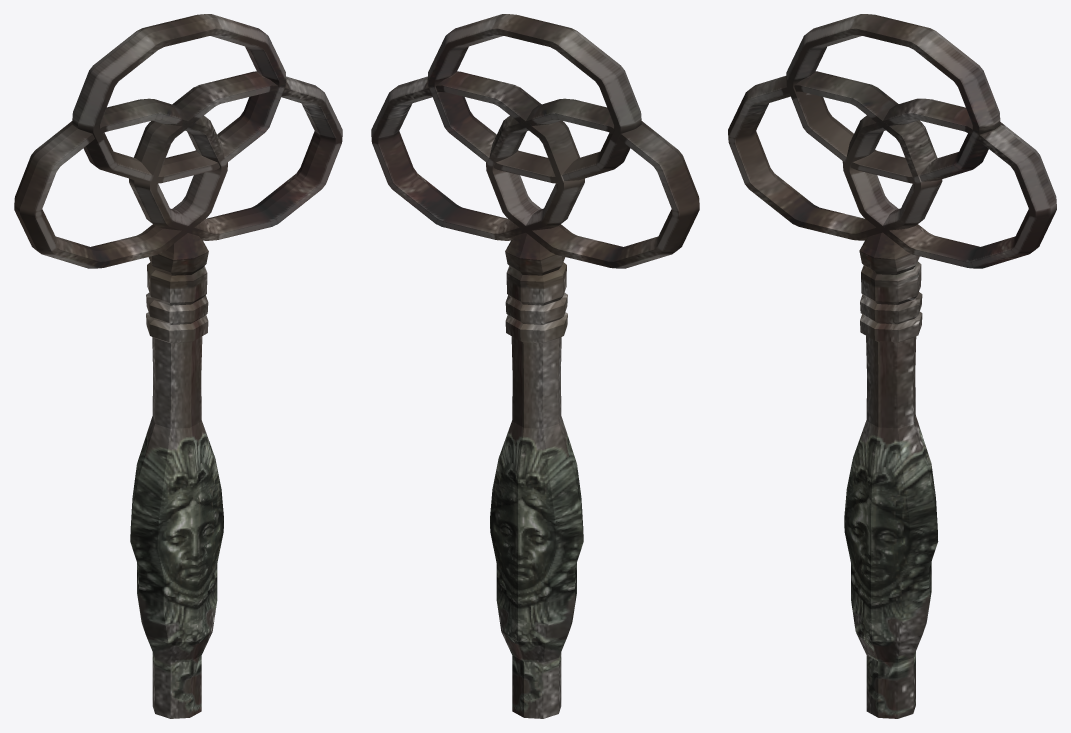
The model's file is PAST-Key3Cutoff.fbx.
3 views of the same model, side by side, from view 1: azimuth 30°, elevation 25°; view 2: azimuth 150°, elevation 25°; view 3: azimuth 330°, elevation 25° (orthographic).
Visible parts, largest first — view 1: Key3Cutoff; view 2: Key3Cutoff; view 3: Key3Cutoff.
Boxes of the visible parts, box(x1,y1,x2,y2) form: Key3Cutoff: box(14, 14, 342, 718); Key3Cutoff: box(371, 14, 699, 718); Key3Cutoff: box(728, 14, 1056, 718).
Size of the model in its own units: 1.88 by 3.81 by 0.3942.
1 material, 1 textured.
